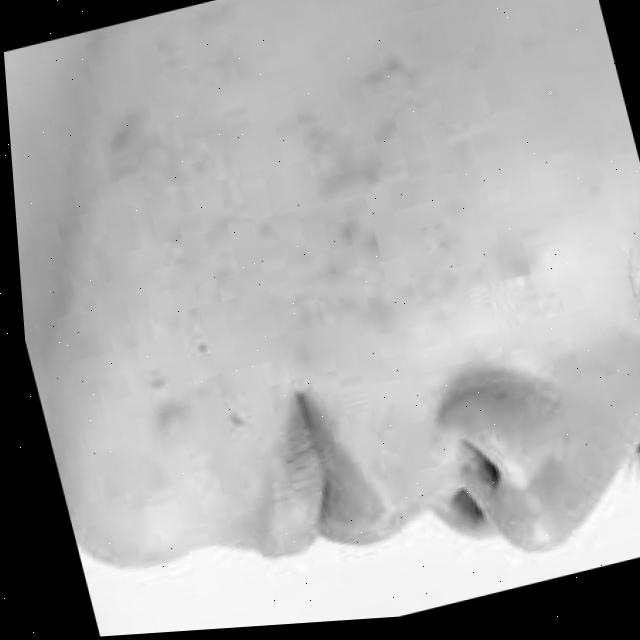Acne: (21, 17, 475, 441)
